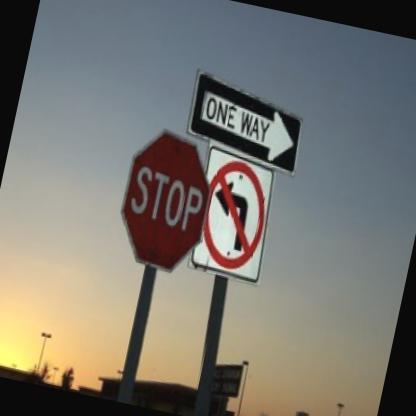stop: (104, 118, 223, 276)
